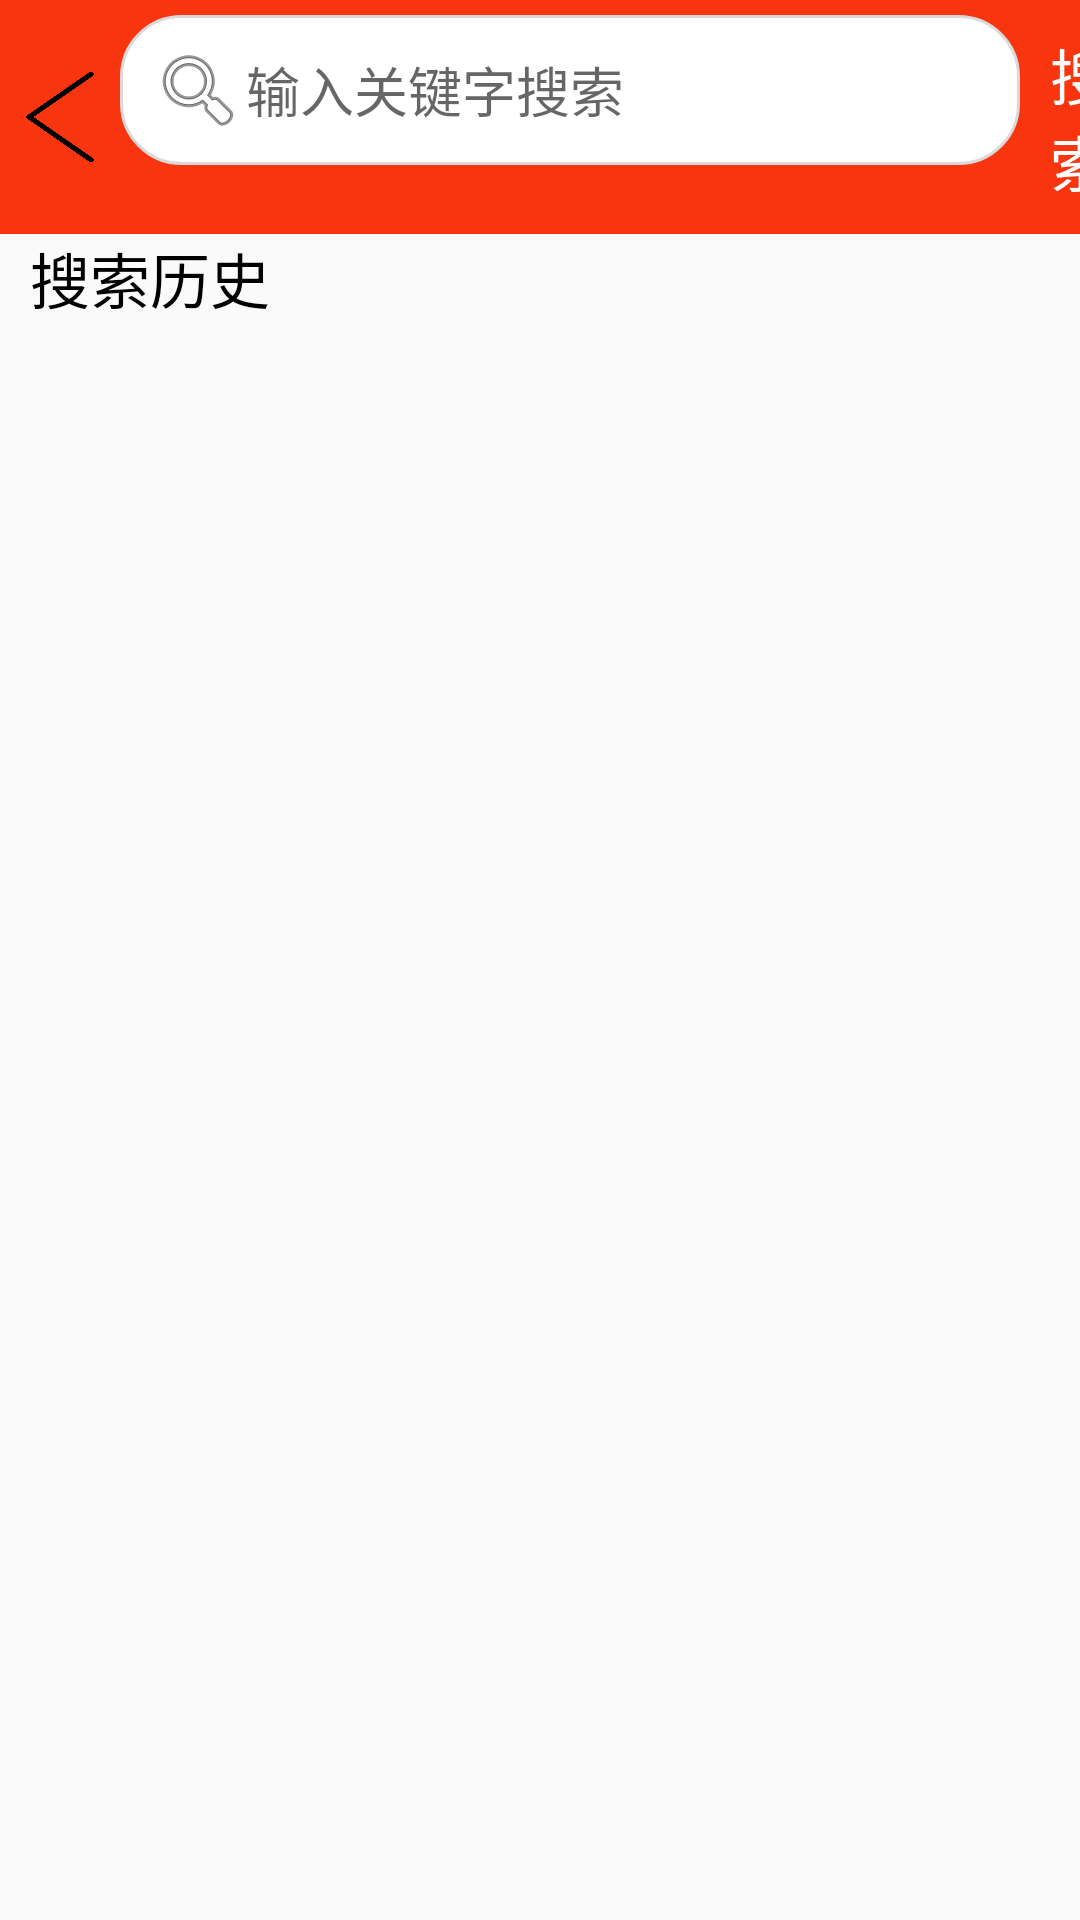

Screen size 1080w x 1920h. Icon name, then its box in pixels as (x1, y1, x2, y2):
back: (26, 72, 94, 162)
